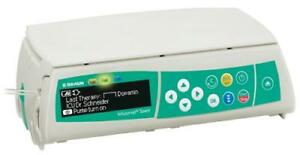BBraun Infusomat Space: (12, 6, 297, 150)
